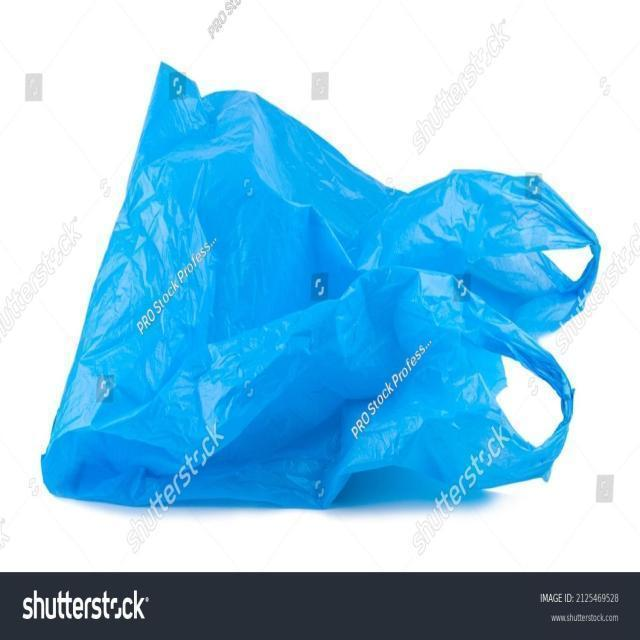Plastic_Bag: (54, 73, 604, 515)
